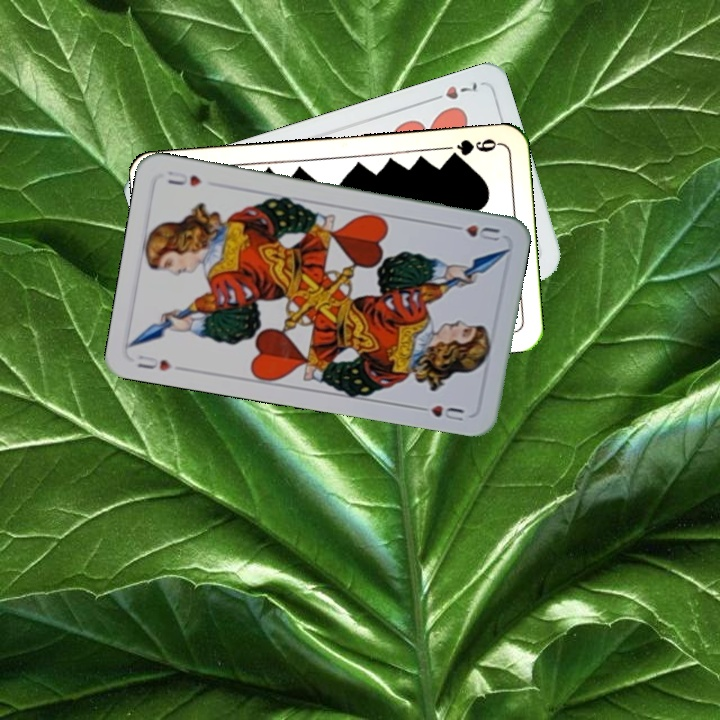G9: (444, 135, 502, 162)
H7: (424, 78, 480, 105)
HU: (446, 220, 502, 244), (133, 351, 174, 374)
